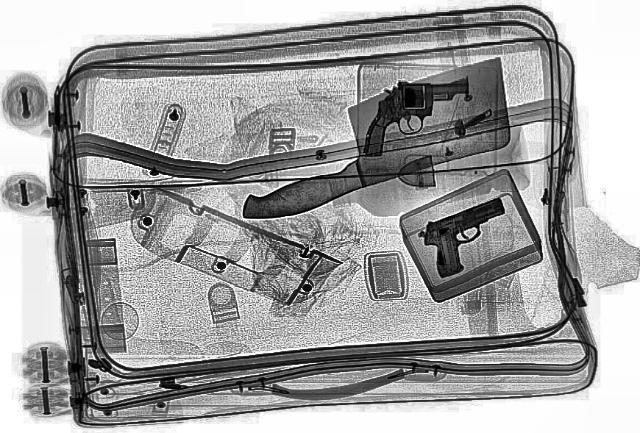Gun: (360, 64, 470, 160), (410, 194, 532, 278)
Knife: (200, 36, 562, 256)
